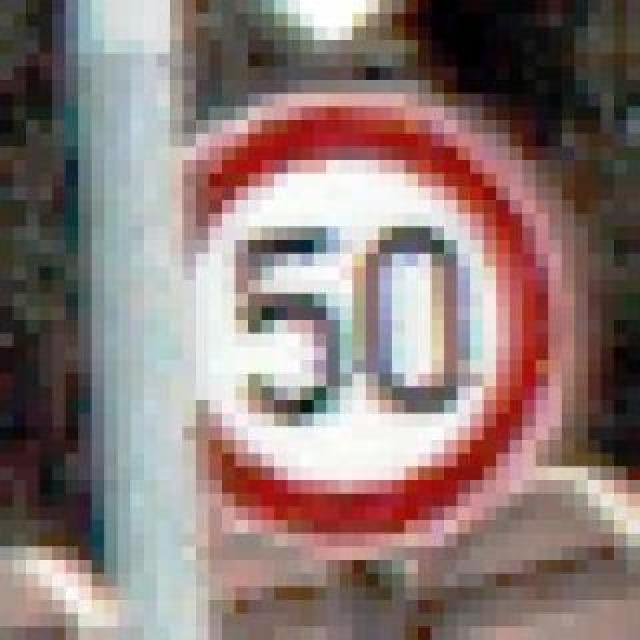50 kph: (118, 80, 574, 548)
